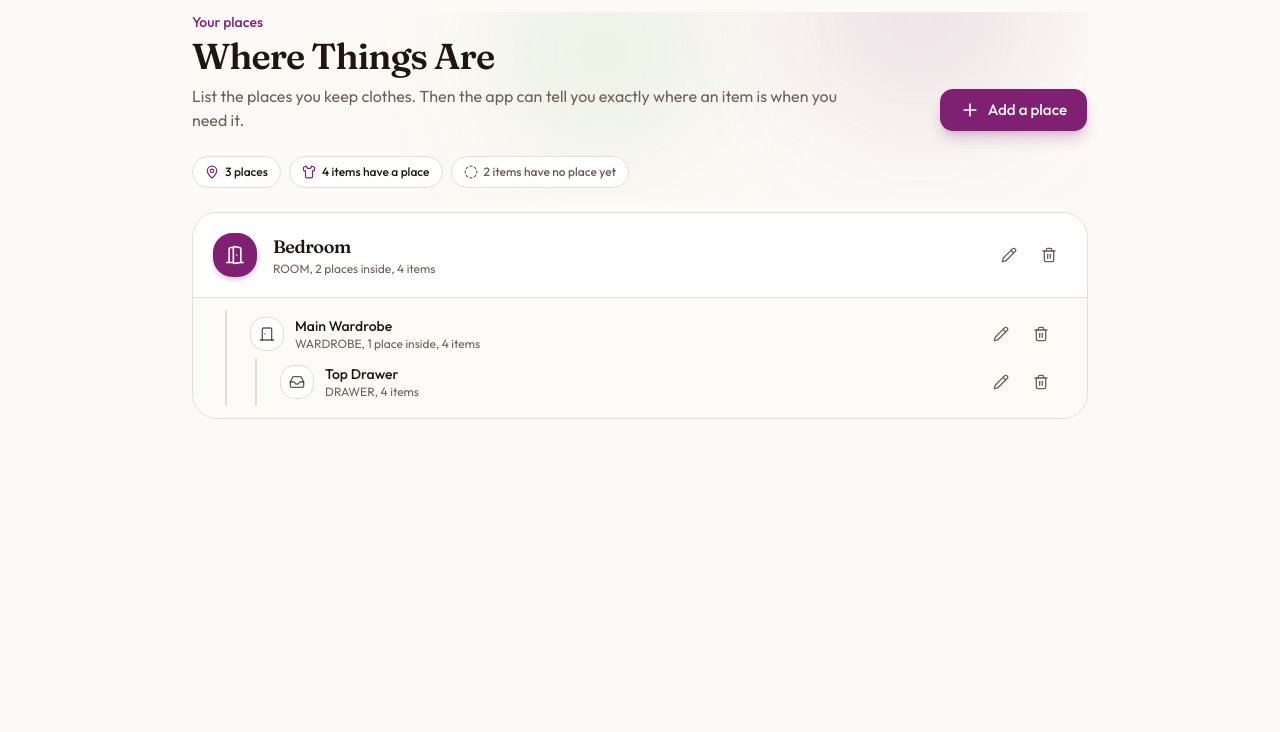
Test: StoragePage › opens the add form from the button in the header
expect the field labelled "What is it called?" is not shown: met
Click the button "Add a place" at (1013, 110), box x1=939 y1=88 x2=1088 y2=132
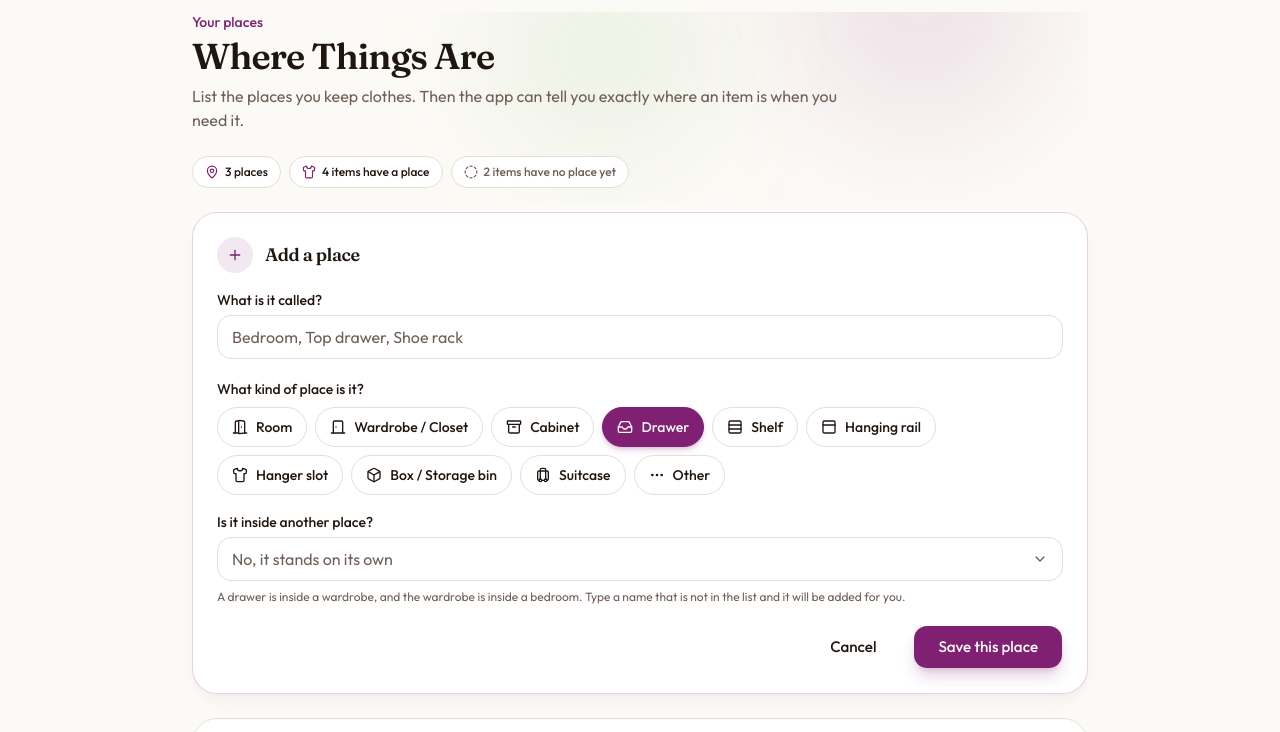
expect the heading "Add a place" is shown: met, box x1=217 y1=237 x2=360 y2=273
expect the field labelled "What is it called?" is shown: met, box x1=217 y1=315 x2=1063 y2=359
